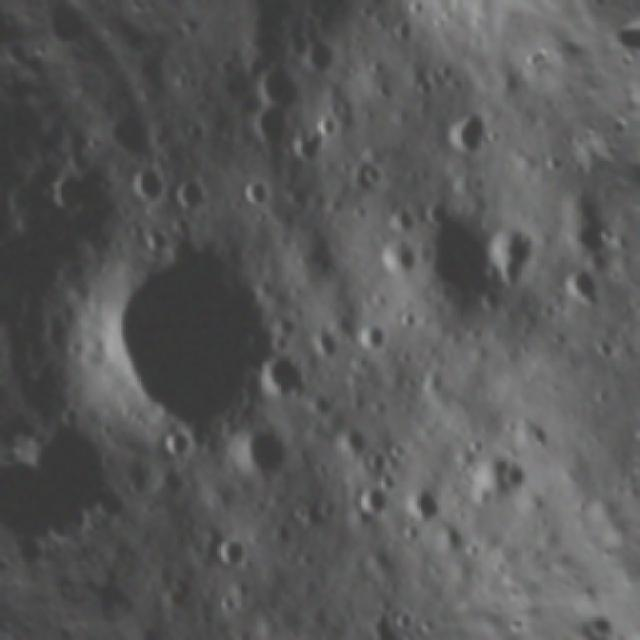crater: (68, 217, 323, 469), (384, 192, 524, 338), (20, 400, 152, 548), (546, 175, 632, 278), (475, 212, 559, 299), (425, 95, 506, 177), (222, 416, 304, 496), (551, 257, 617, 332), (252, 342, 322, 412), (238, 94, 307, 163), (39, 157, 104, 221), (396, 474, 461, 537), (245, 55, 308, 119), (340, 475, 398, 536), (100, 112, 157, 170), (125, 162, 181, 220), (487, 452, 545, 508), (157, 601, 234, 640), (164, 167, 218, 221), (294, 32, 346, 88), (348, 309, 398, 362), (0, 294, 28, 388), (210, 532, 258, 582), (154, 426, 203, 474), (331, 420, 378, 468), (371, 238, 418, 285), (401, 69, 447, 114), (136, 222, 181, 264), (306, 323, 348, 366), (384, 598, 427, 640), (435, 54, 470, 94), (377, 0, 439, 18)
